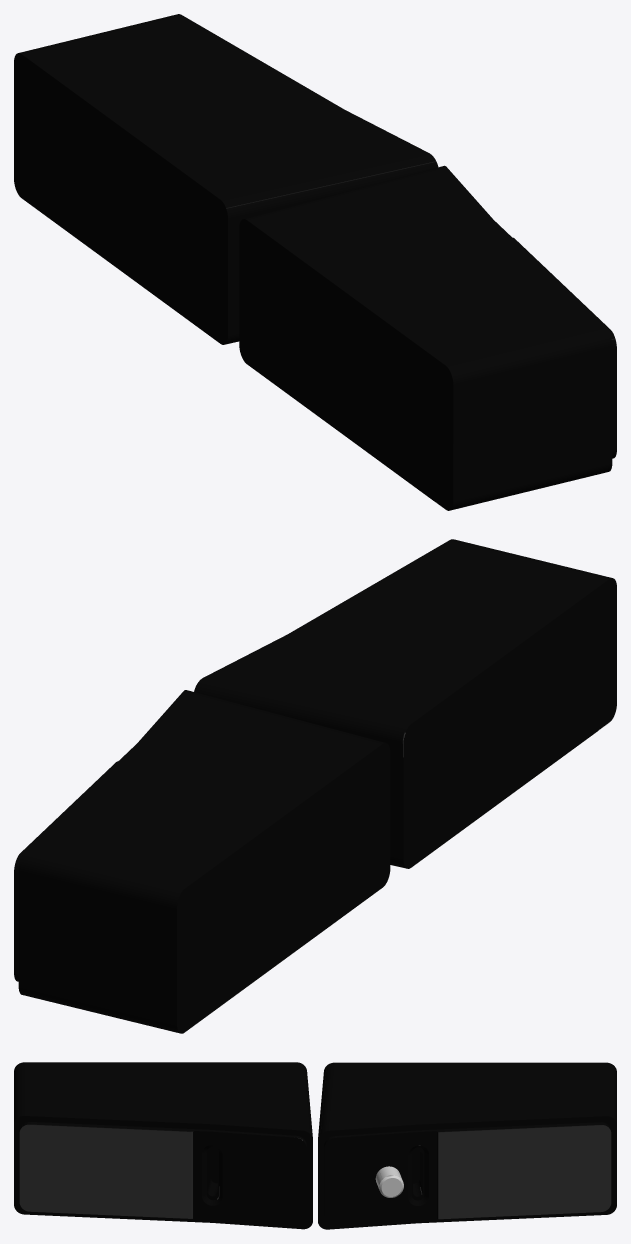
The model's file is speaker.dae.
3 renders of one model, top to bottom at view 1: azimuth 30°, elevation 25°; view 2: azimuth 150°, elevation 25°; view 3: azimuth 270°, elevation 25°, orthographic. The views are drawn at different scales.
Parts seen in each view (by area): view 1: Sperker; view 2: Sperker; view 3: Sperker.
Boxes of the visible parts, left/top/right/bottom form: Sperker: left=14, top=14, right=616, bottom=510; Sperker: left=14, top=539, right=616, bottom=1033; Sperker: left=14, top=1062, right=616, bottom=1229.
Size of the model in its own units: 0.0865 by 0.288 by 0.052.
1 material, 1 textured.
